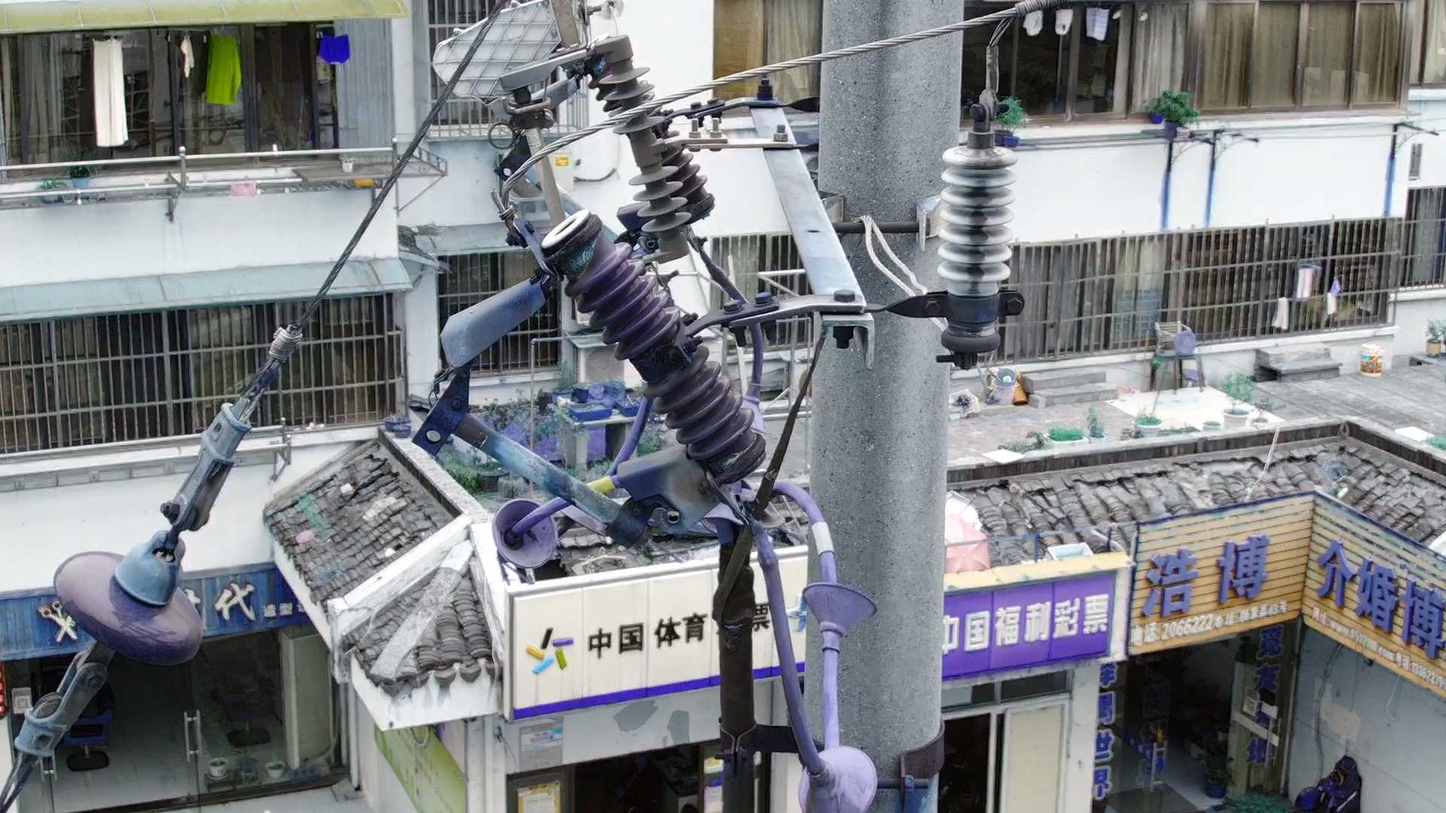severe_soiling_no_discharge_whole: (929, 128, 1021, 353)
